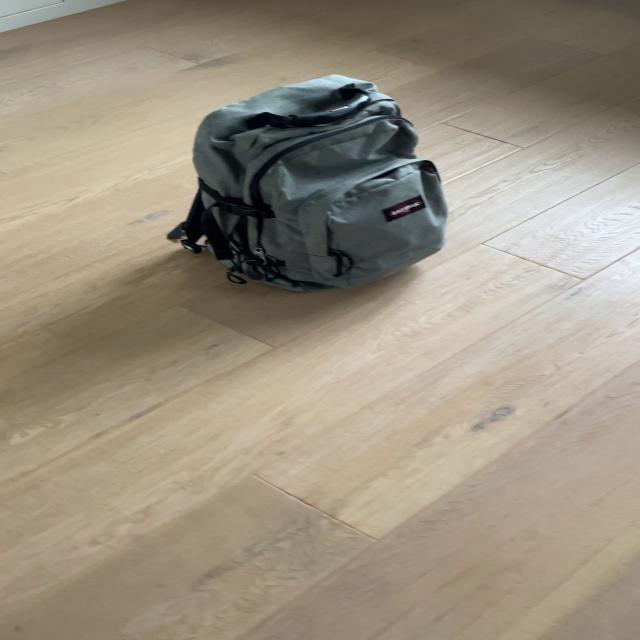backpack: (168, 66, 461, 299)
